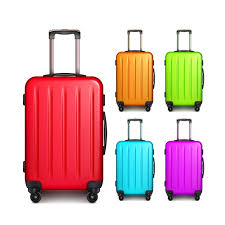suitcase: (23, 29, 109, 203), (163, 119, 206, 203), (163, 27, 206, 110), (114, 119, 156, 201), (115, 29, 155, 112)
